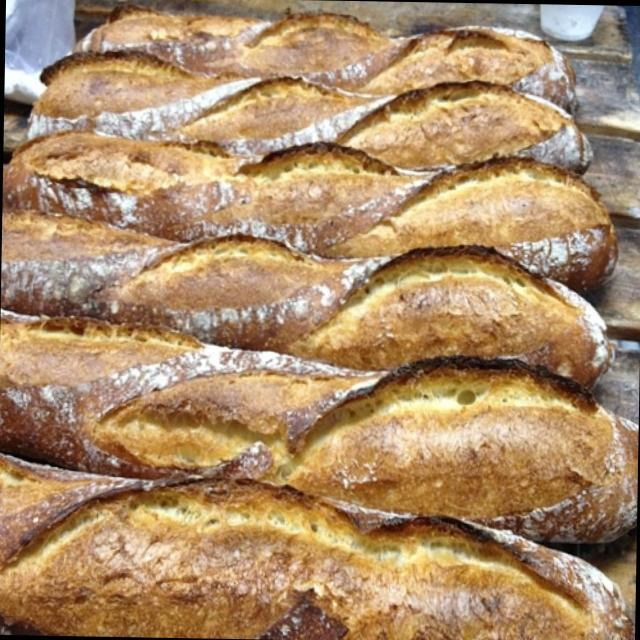Bread: (2, 5, 621, 640)
